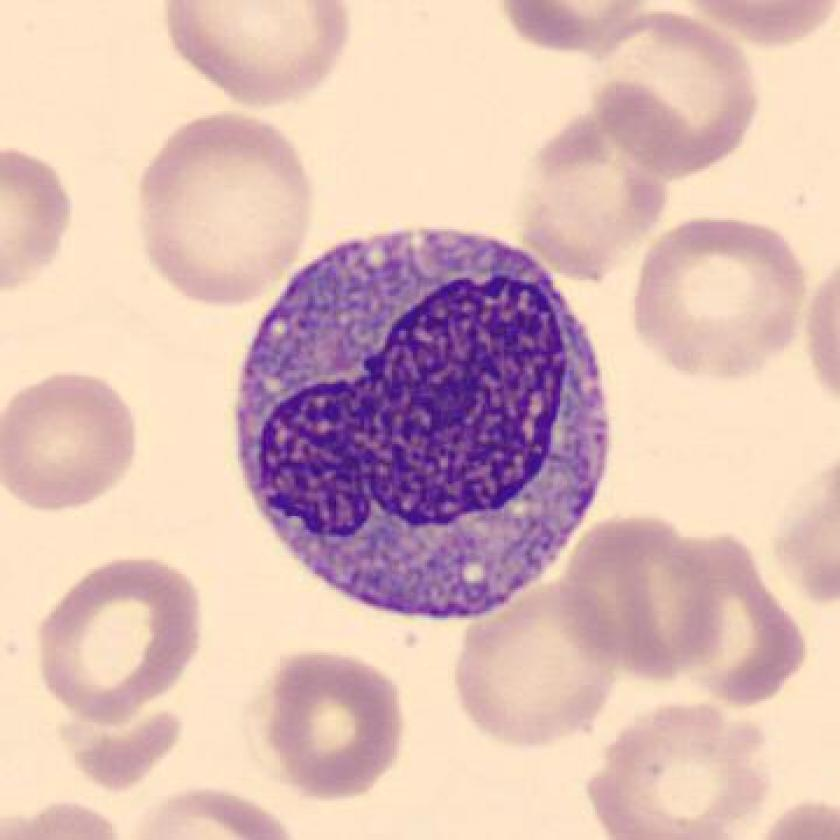monocyte: (216, 200, 638, 642)
